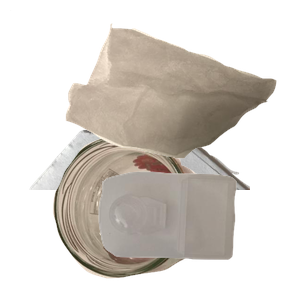glass: (50, 131, 252, 300)
paper: (10, 10, 250, 190)
plastic: (96, 169, 300, 300)
trash: (63, 21, 300, 172)
